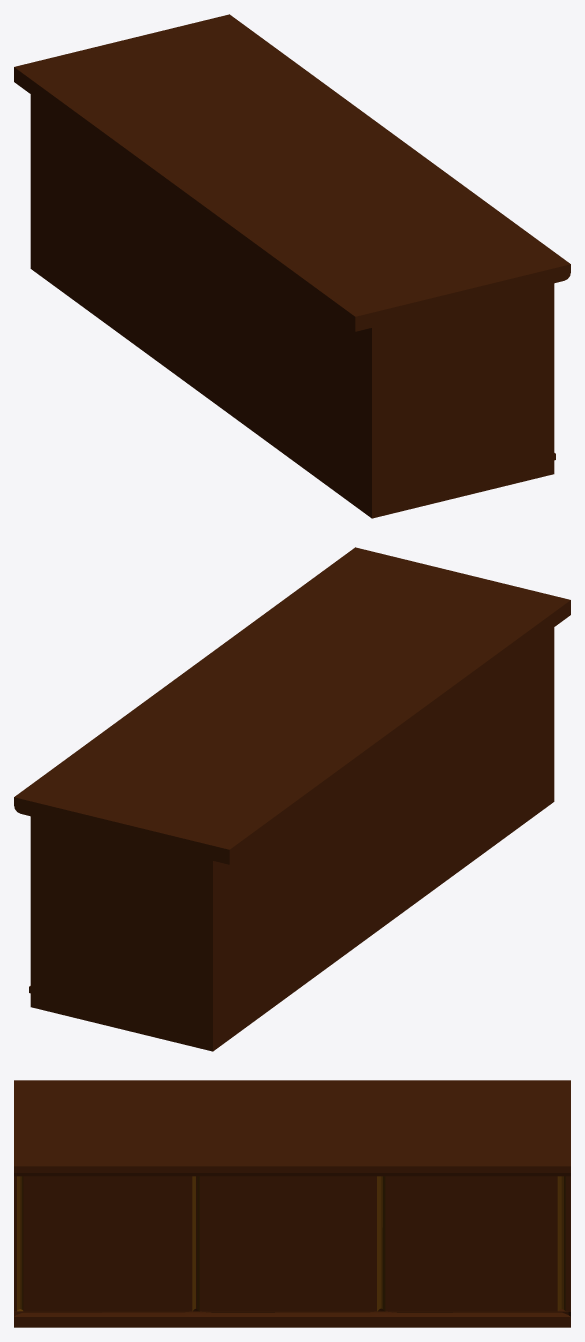
Rendered from mueble 2 de cocina (2).fbx.
3 renders of one model, top to bottom at view 1: azimuth 30°, elevation 25°; view 2: azimuth 150°, elevation 25°; view 3: azimuth 270°, elevation 25°, orthographic. The views are drawn at different scales.
Visible parts, largest first — view 1: Cube; view 2: Cube; view 3: Cube.
Part boxes in pixels (x1,y1,x2,y2): Cube: [14, 14, 570, 518]; Cube: [14, 547, 570, 1051]; Cube: [14, 1080, 570, 1327].
Size of the model in its own units: 237 by 216 by 649.
